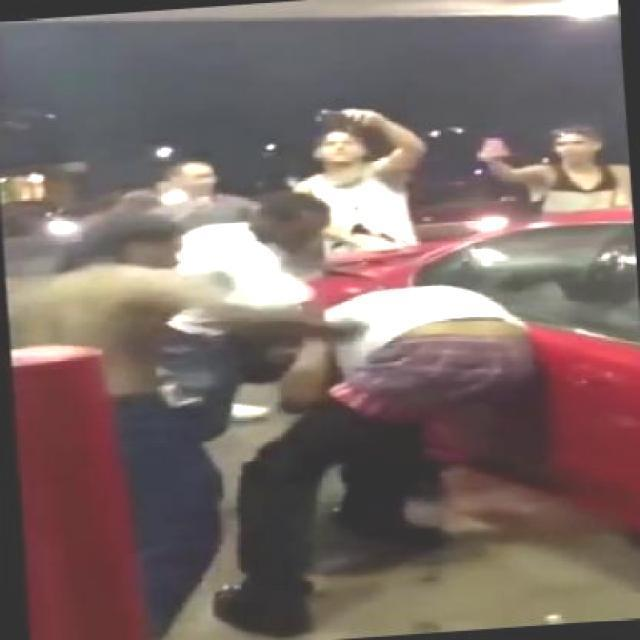fight: (4, 192, 542, 485)
